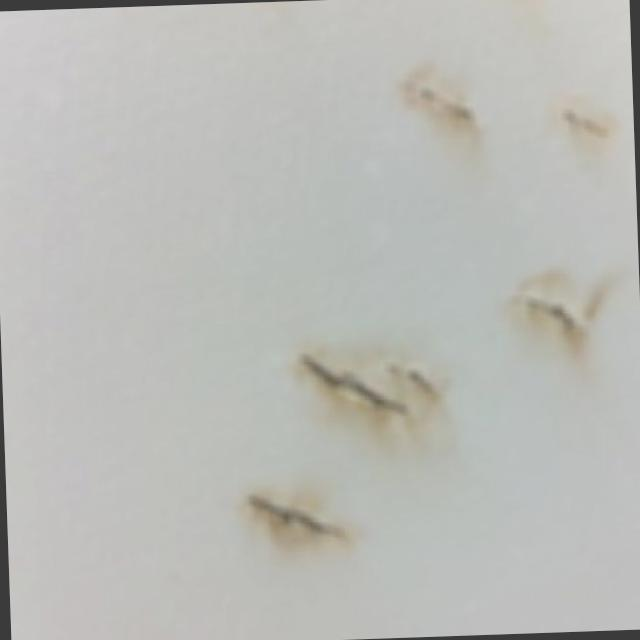crack: (304, 355, 408, 418), (252, 494, 346, 540), (520, 294, 576, 329), (419, 82, 469, 118), (394, 362, 436, 396), (566, 110, 606, 133)
